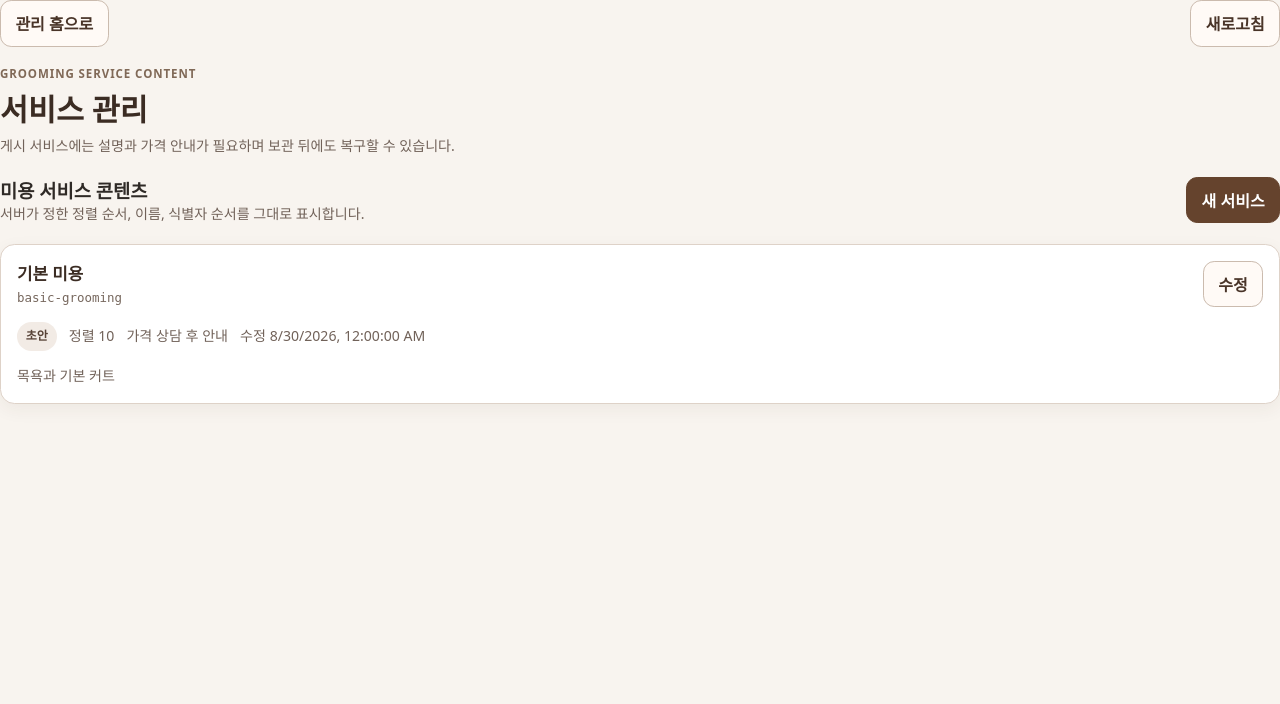
Test case: AdminServiceManager › mutation 403을 자동 재전송하지 않고 401은 session callback으로 위임한다
This screenshot has width=1280, height=704.
Click the button with aria-label "기본 미용 수정". click: point(1233, 284)
box: [1203, 261, 1263, 307]
(page scrolled)
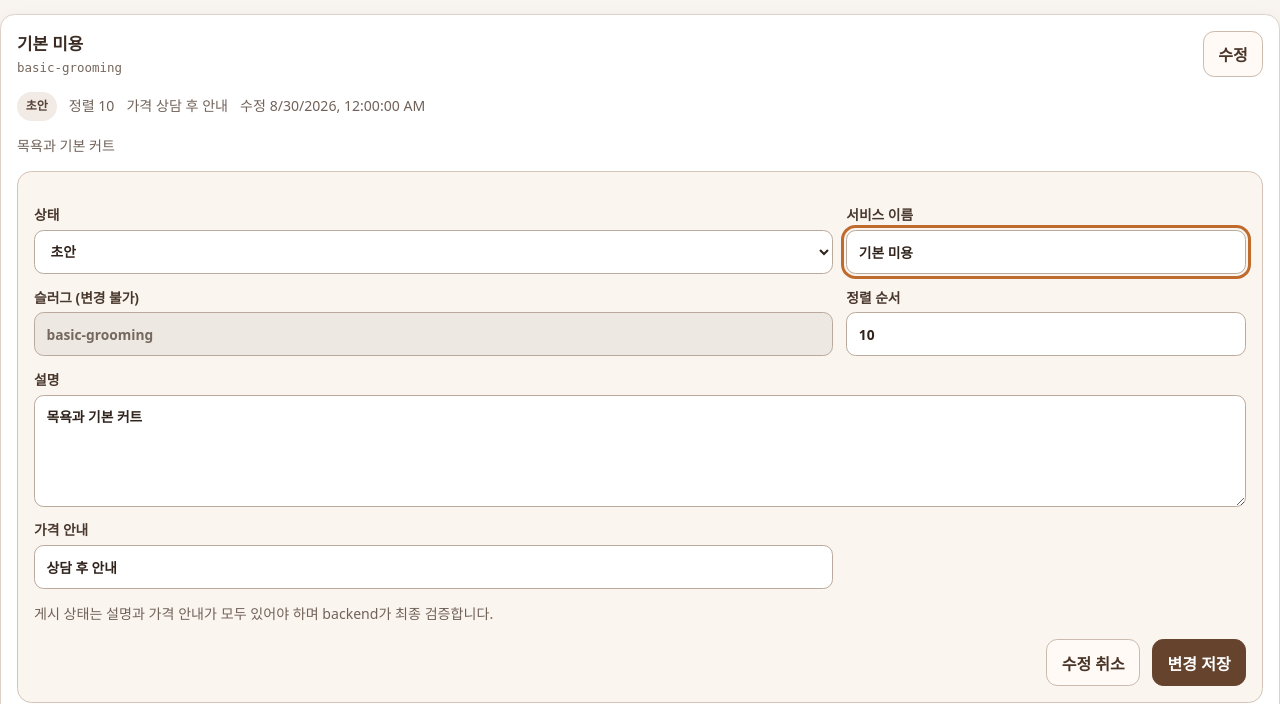
Click the button "변경 저장". click: point(1199, 663)
box: [1152, 640, 1246, 686]
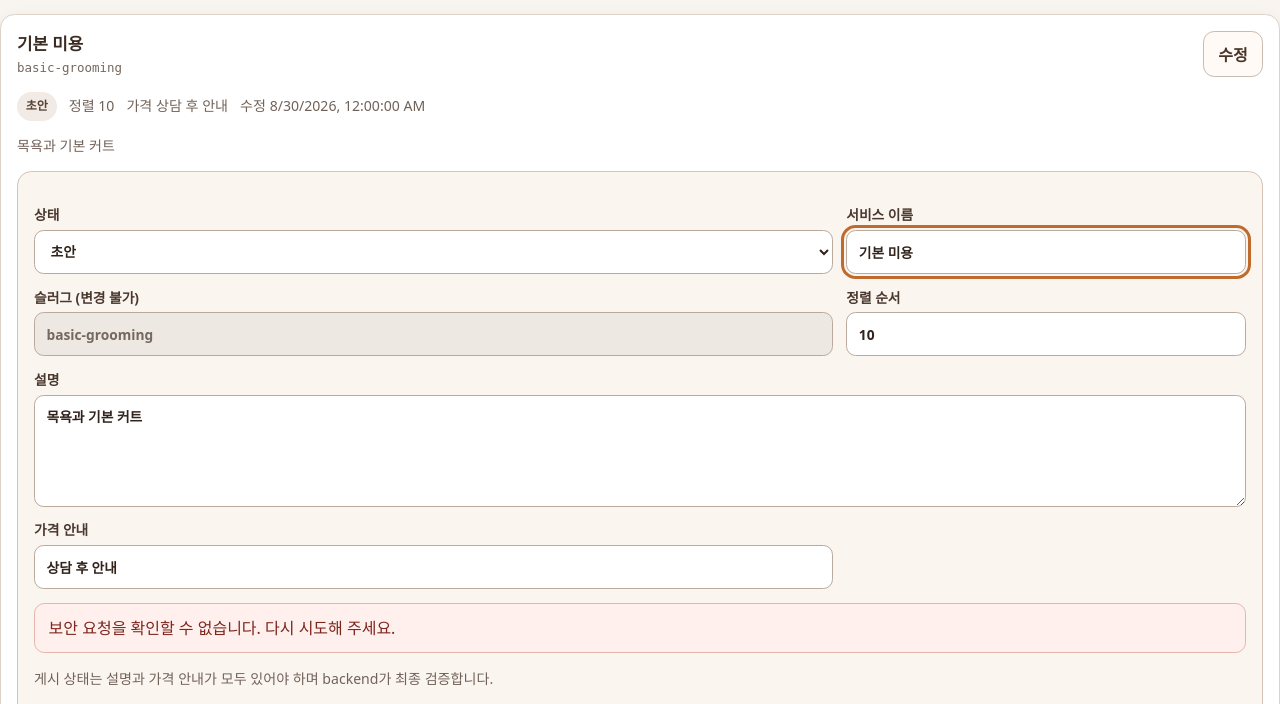
Result: the message shows "보안 요청을 확인할 수 없습니다" at [49, 617, 395, 639]
